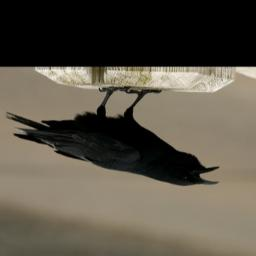Crow: (5, 85, 220, 186)
